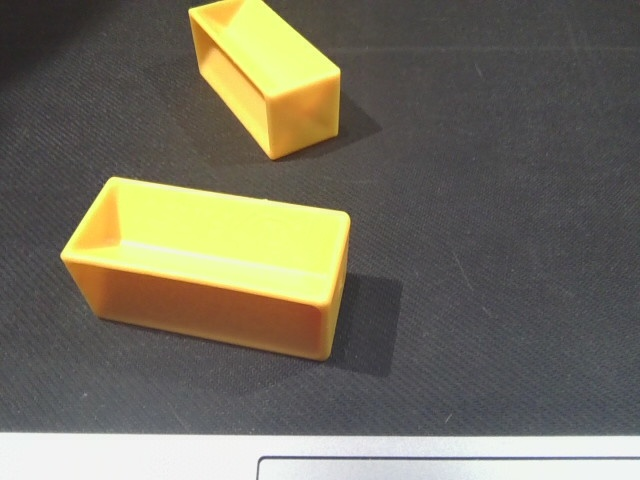YellowSample: (58, 173, 356, 366), (177, 1, 344, 162)
